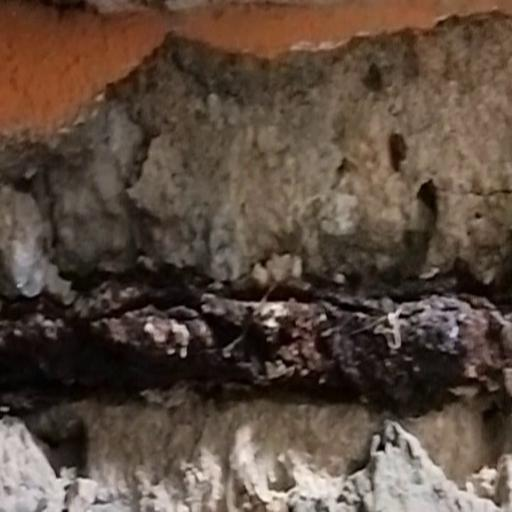spalling: (5, 33, 512, 512)
